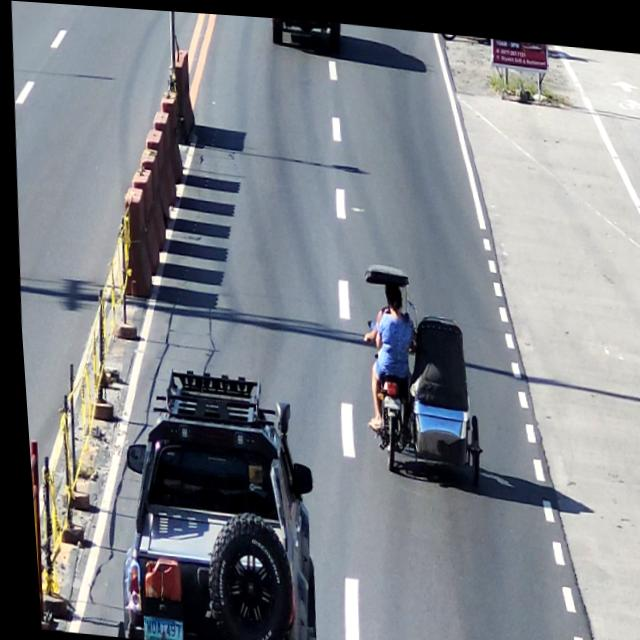Car: (104, 360, 321, 640), (268, 14, 346, 48)
License-Plate: (132, 608, 176, 640), (378, 387, 396, 407)
Tricycle: (350, 254, 489, 492)
